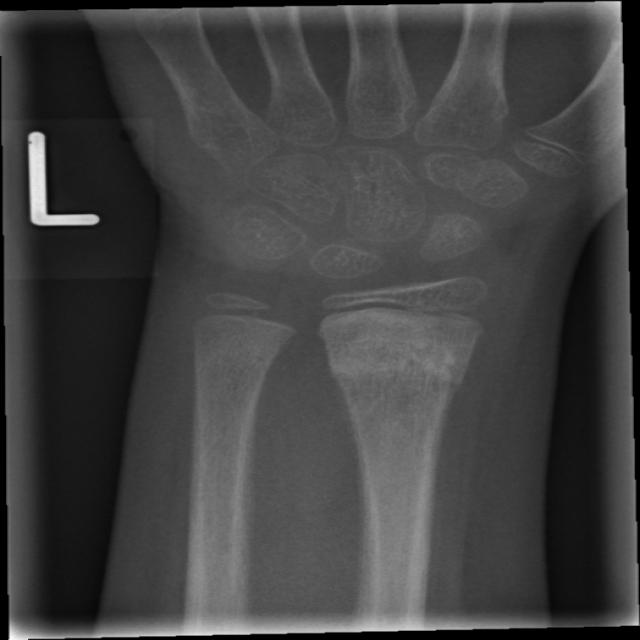radius fracture: (310, 334, 518, 451)
